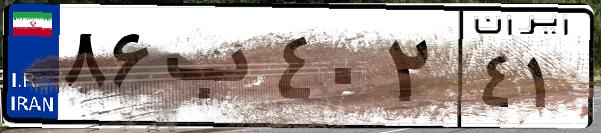0: (330, 28, 385, 110)
1: (525, 38, 570, 115)
2: (385, 28, 445, 110)
4: (270, 28, 330, 110), (475, 38, 525, 113)
6: (110, 28, 158, 98)
8: (57, 26, 110, 100)
ب: (158, 20, 270, 120)
